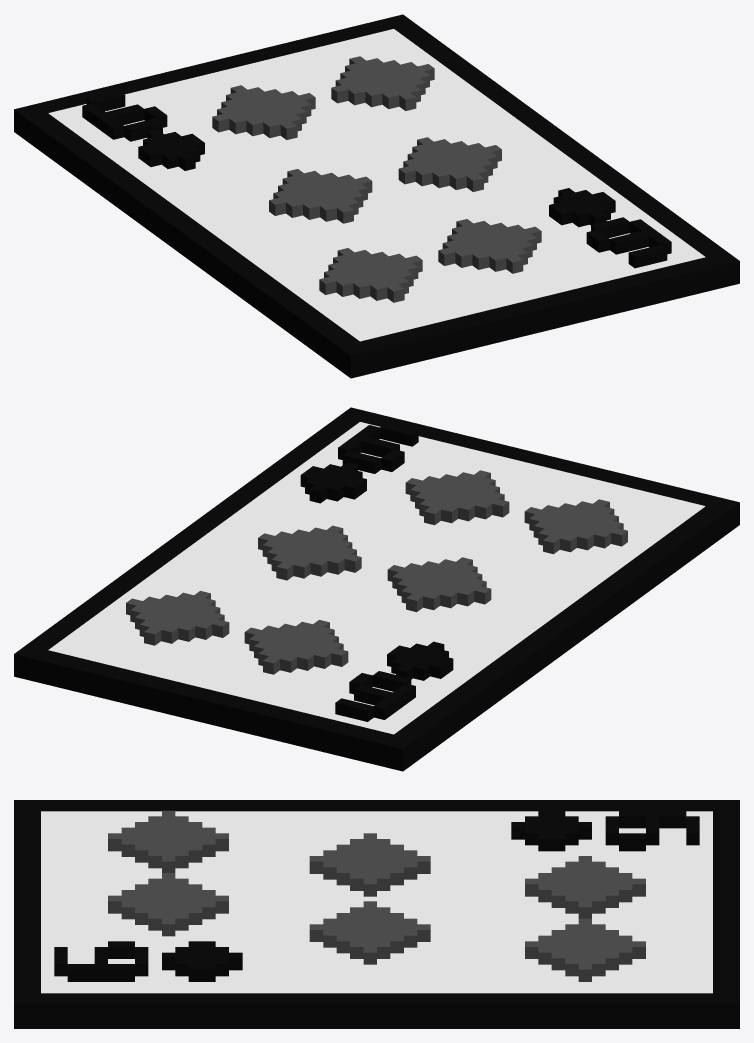
The model's file is Dia6.obj.
3 views of the same model, one above another, from view 1: azimuth 30°, elevation 25°; view 2: azimuth 150°, elevation 25°; view 3: azimuth 270°, elevation 25° (orthographic). The views are drawn at different scales.
Bounding box in the file's own units: 36 × 3 × 54.
Materials: 1 (1 with a texture image).
